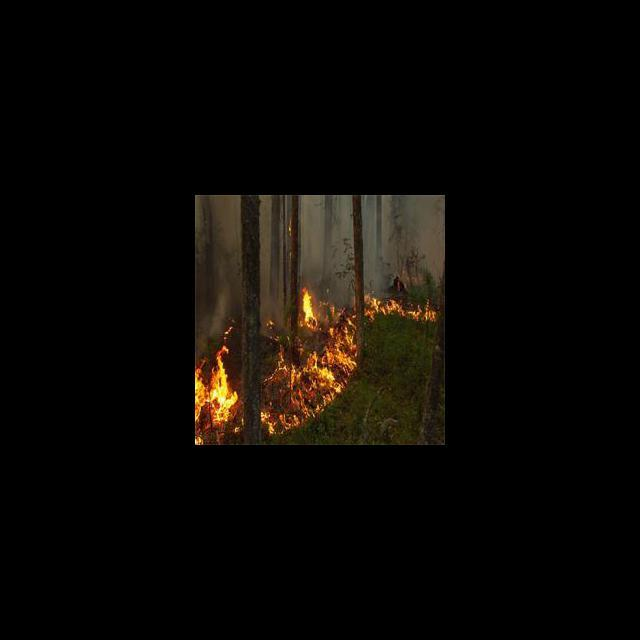Fire: (195, 280, 444, 443)
